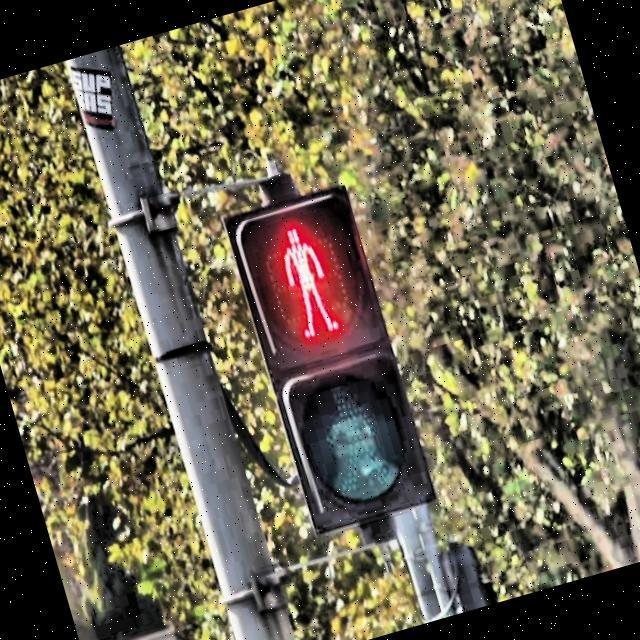red_light: (268, 216, 344, 344)
